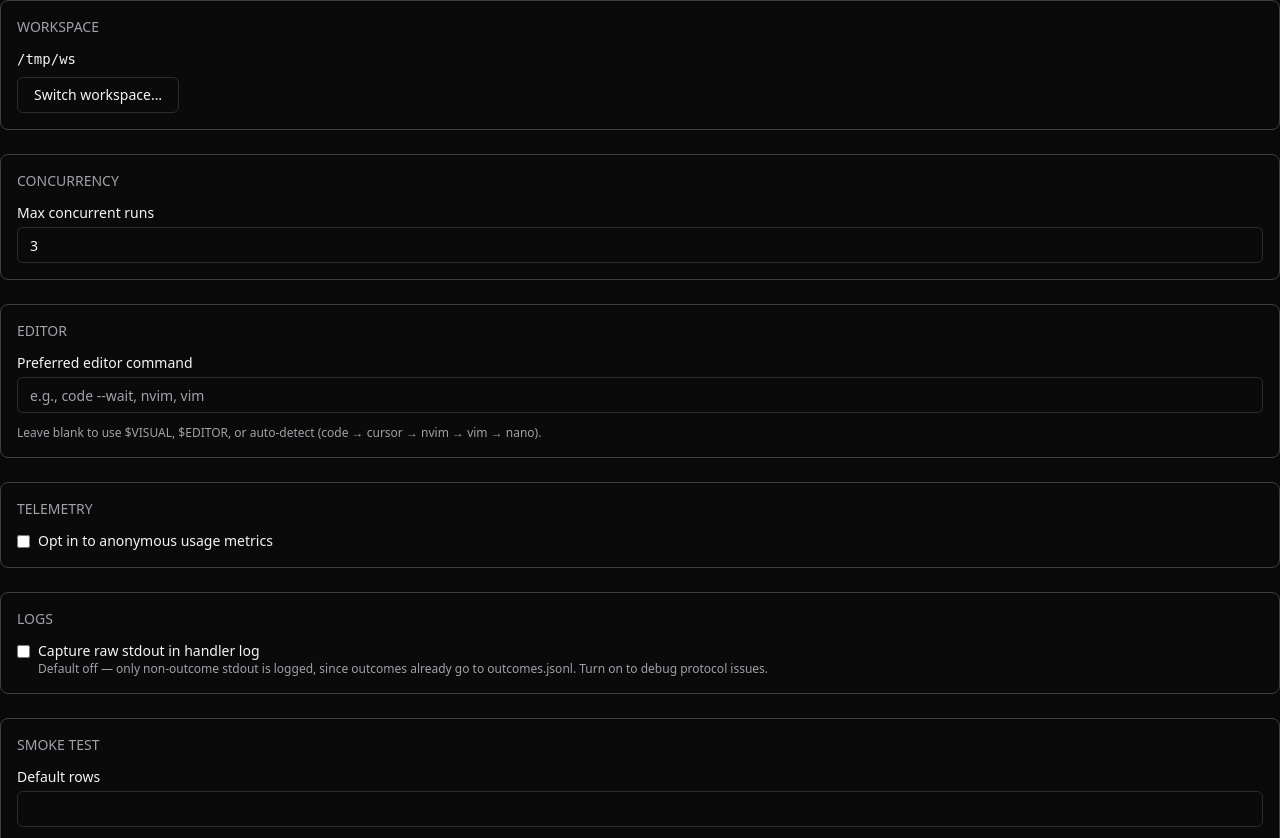
Scenario: SettingsForm › shows the dirty banner when max_concurrent_runs differs from loaded value
Replace the text in the number field labelled "Max concurrent runs" with "5" at [640, 245], box [17,227,1263,263]
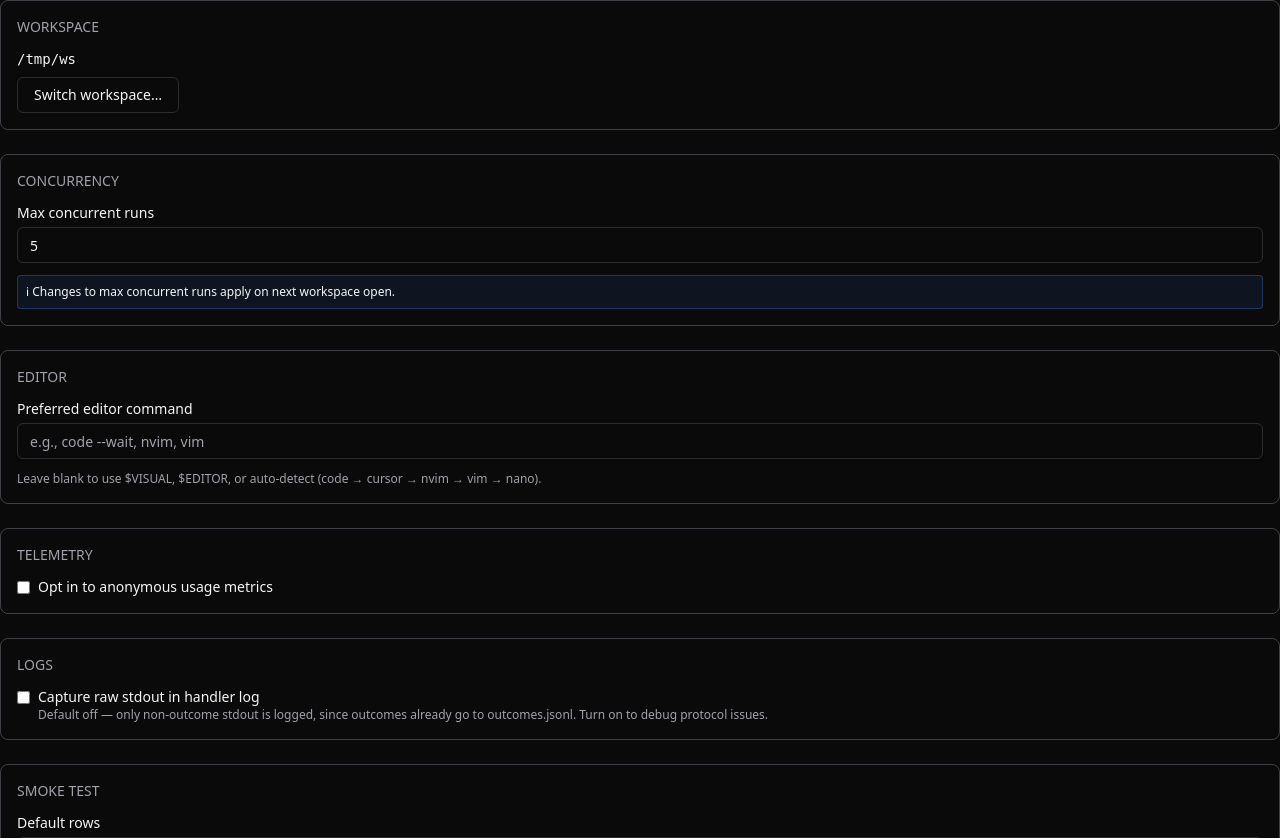
expect the text "apply on next workspace open" is shown: met, box [26,283,395,300]
